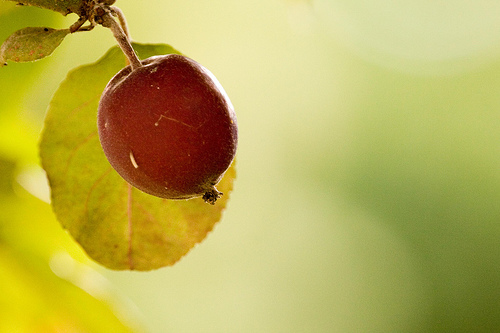apple: (98, 11, 238, 200)
